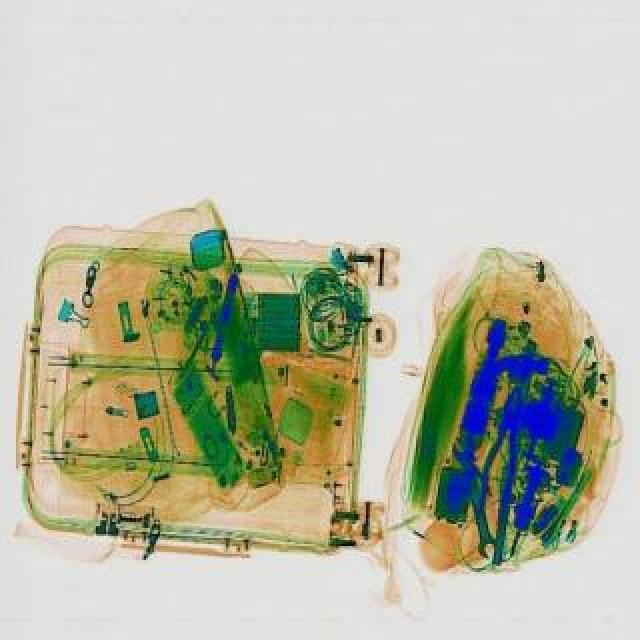scissors: (448, 434, 504, 558)
wrench: (476, 382, 532, 518)
